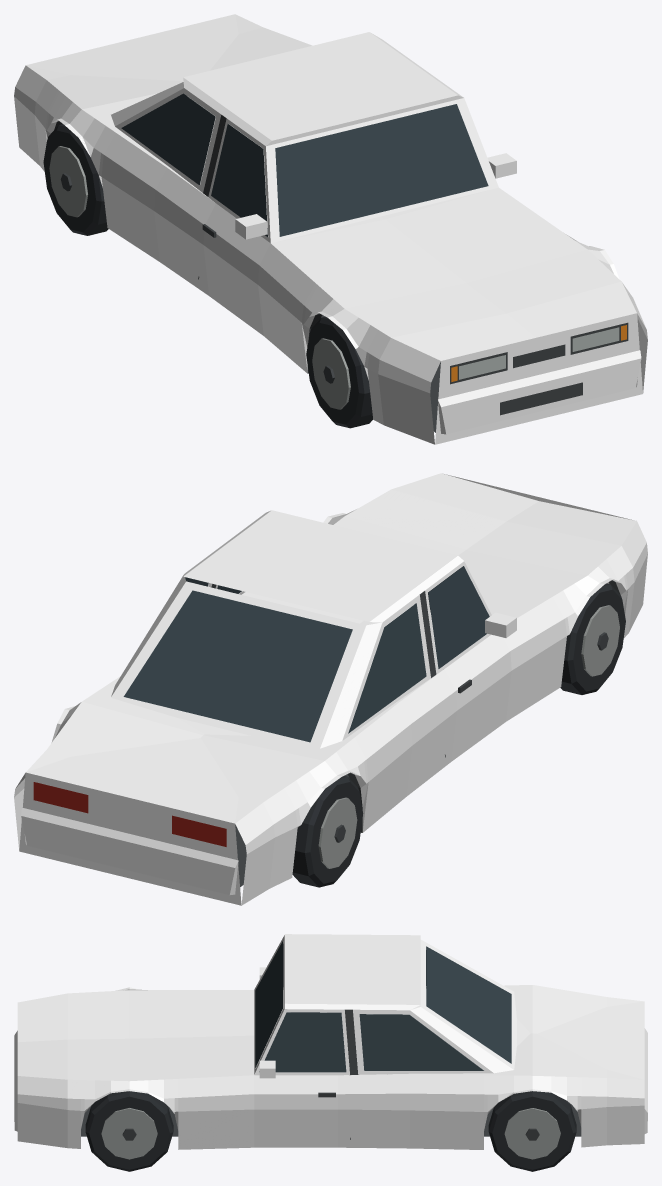
File: sanga_tsukikage_99.glb
3 views of the same model, one above another, from view 1: azimuth 30°, elevation 25°; view 2: azimuth 150°, elevation 25°; view 3: azimuth 270°, elevation 25° (orthographic). The views are drawn at different scales.
Visible parts, largest first — view 1: sanga_tsukikage_99; view 2: sanga_tsukikage_99; view 3: sanga_tsukikage_99.
Part boxes in pixels (x1=…): sanga_tsukikage_99: x1=14, y1=14, x2=647, y2=444; sanga_tsukikage_99: x1=14, y1=473, x2=647, y2=905; sanga_tsukikage_99: x1=14, y1=934, x2=647, y2=1171.
Bounding box in the file's own units: 1.82 × 1.26 × 4.7.
Materials: 8 (1 with a texture image).
